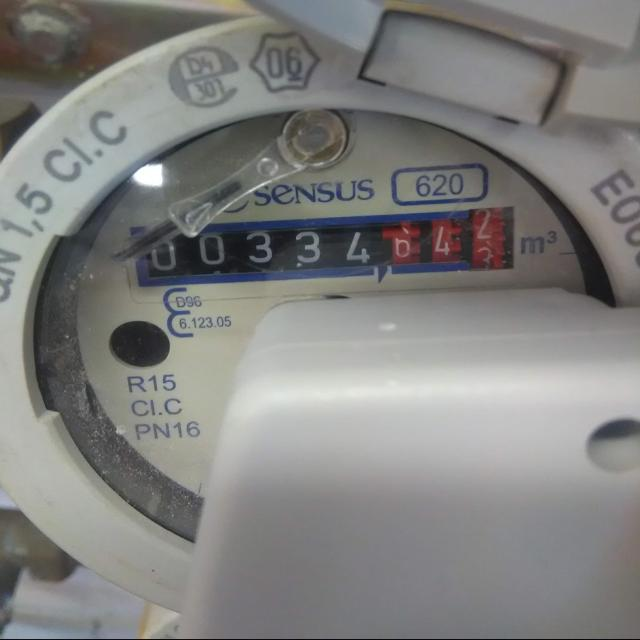gaz_meter: (32, 99, 624, 568)
indication: (129, 209, 512, 291)
